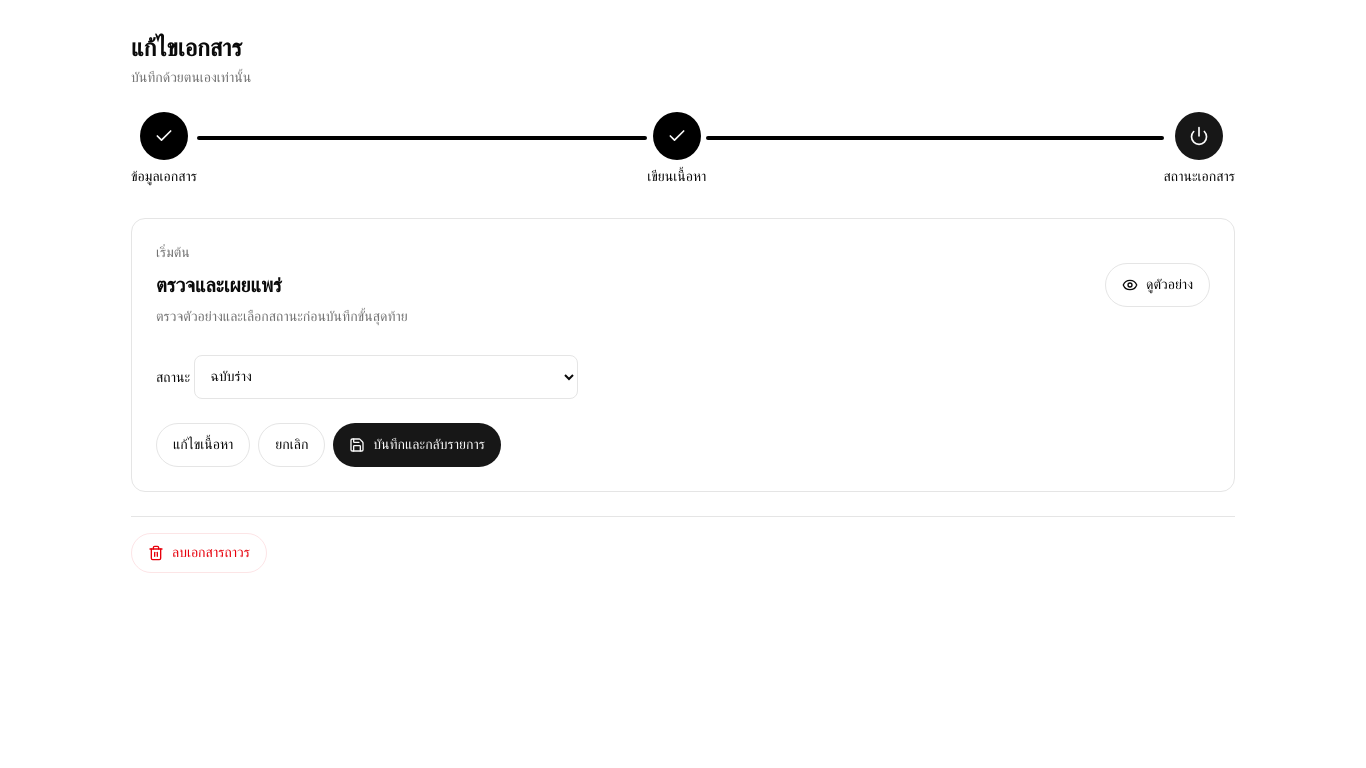
Test: returns to content without losing a review status choice
Select "เก็บถาวร" in the dropdown labelled "สถานะ": coordinates (386, 376) [194, 354, 578, 398]
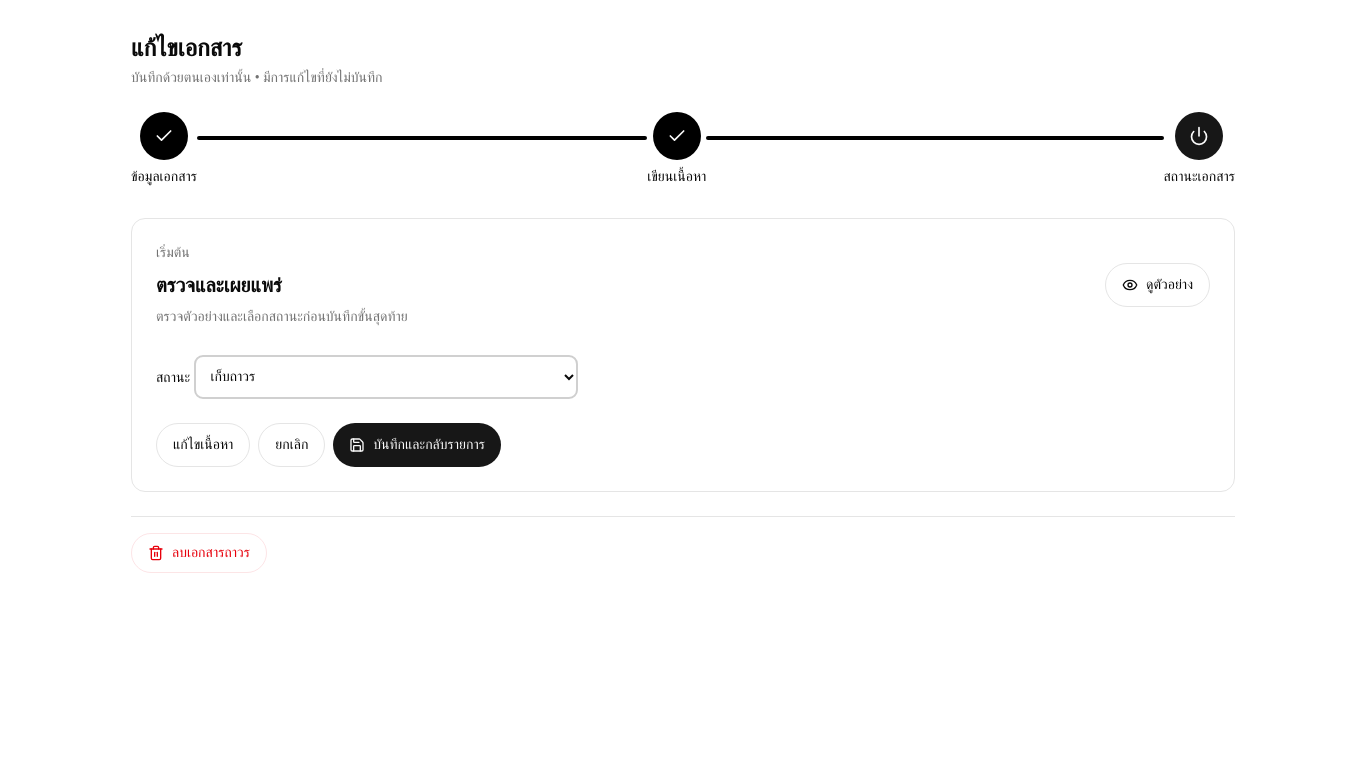
Click the button "แก้ไขเนื้อหา": coordinates (203, 444) [156, 422, 250, 466]
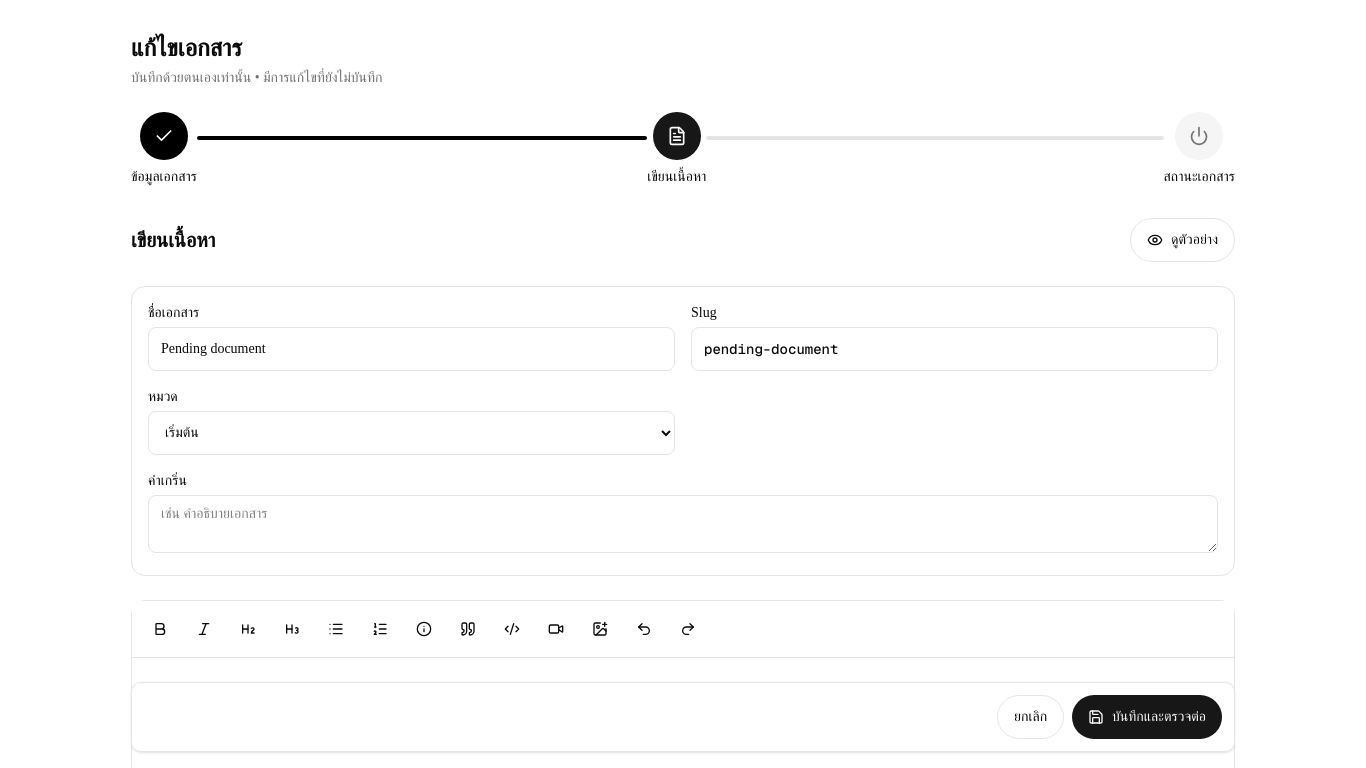
Check: the heading "เขียนเนื้อหา" is shown, box [131, 226, 215, 254]
